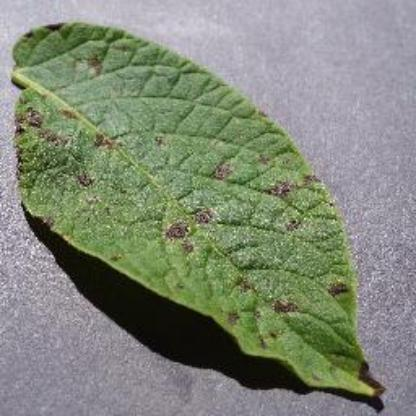Early-Blight: (6, 20, 388, 398)
